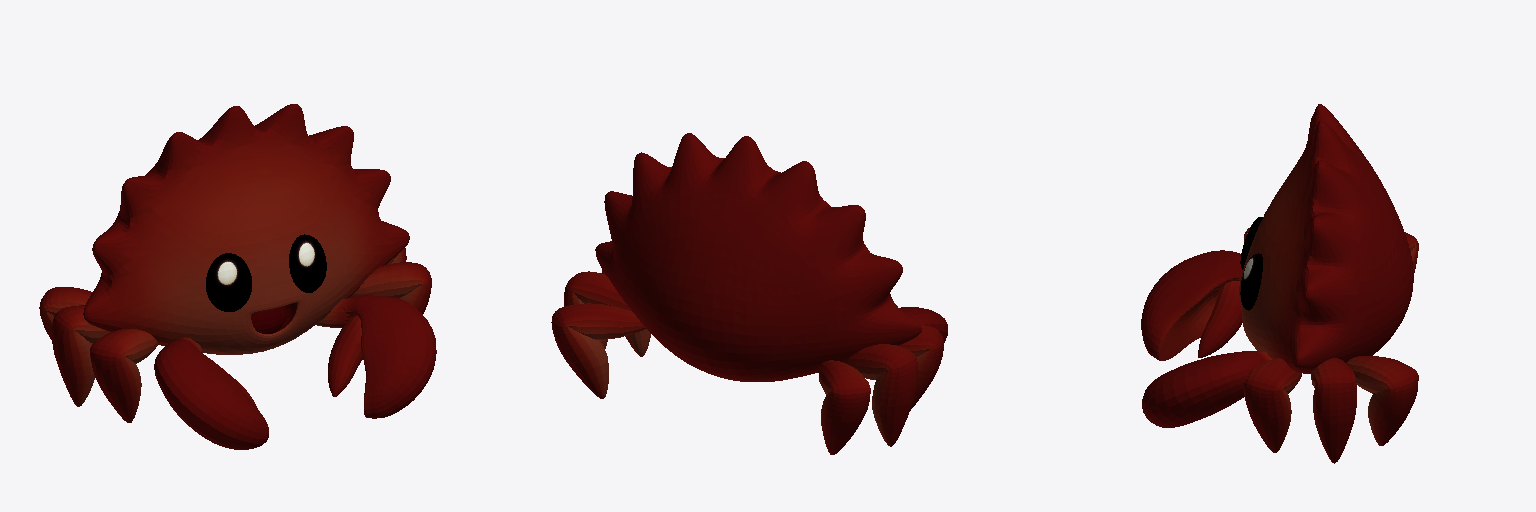
The picture shows the model from 3 angles: view 1: azimuth 30°, elevation 25°; view 2: azimuth 150°, elevation 25°; view 3: azimuth 270°, elevation 25°; orthographic projection.
Visible parts, largest first — view 1: head_head_mesh, armL_armL_mesh, armR_armR_mesh, eyes_eyes_mesh, leg0R_leg0R_mesh, leg1R_leg1R_mesh, Leg0L_leg0L_mesh, thumbL_thumbL_mesh, leg2R_leg2R_mesh, tongue_tongue_mesh; view 2: head_head_mesh, leg2L_leg2L_mesh, leg1R_leg1R_mesh, leg2R_leg2R_mesh, leg1L_leg1L_mesh, leg0R_leg0R_mesh, armR_armR_mesh; view 3: head_head_mesh, armR_armR_mesh, armL_armL_mesh, leg2L_leg2L_mesh, leg1L_leg1L_mesh, Leg0L_leg0L_mesh, thumbR_thumbR_mesh, eyes_eyes_mesh.
Part boxes in pixels (x1,y1,x2,y2): head_head_mesh: (83,104,409,354); armL_armL_mesh: (316,295,436,418); armR_armR_mesh: (154,337,268,449); eyes_eyes_mesh: (206,234,326,311); leg0R_leg0R_mesh: (90,329,158,422); leg1R_leg1R_mesh: (52,305,110,406); Leg0L_leg0L_mesh: (350,262,431,313); thumbL_thumbL_mesh: (328,316,362,396); leg2R_leg2R_mesh: (39,287,92,339); tongue_tongue_mesh: (251,306,286,333); head_head_mesh: (595,133,921,381); leg2L_leg2L_mesh: (551,303,646,398); leg1R_leg1R_mesh: (844,344,918,446); leg2R_leg2R_mesh: (818,360,870,454); leg1L_leg1L_mesh: (564,271,631,348); leg0R_leg0R_mesh: (899,325,943,410); armR_armR_mesh: (900,307,947,342); head_head_mesh: (1239,104,1413,373); armR_armR_mesh: (1141,250,1242,360); armL_armL_mesh: (1142,351,1271,427); leg2L_leg2L_mesh: (1346,356,1418,445); leg1L_leg1L_mesh: (1311,358,1356,463); Leg0L_leg0L_mesh: (1244,358,1301,452); thumbR_thumbR_mesh: (1198,281,1242,357); eyes_eyes_mesh: (1240,217,1262,310).
Bounding box in the file's own units: 1.23 × 0.9153 × 0.8566.
1 materials, 1 textured.